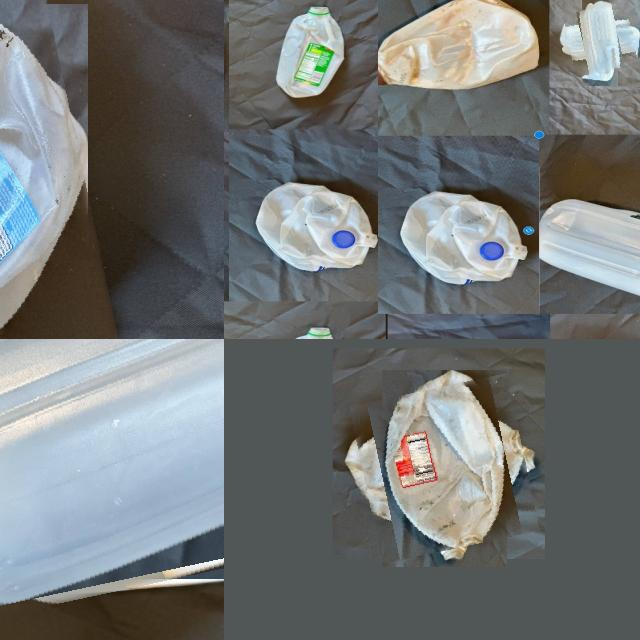milk-jug: (0, 339, 224, 607), (0, 0, 101, 339), (356, 380, 532, 556), (379, 0, 537, 95), (258, 176, 372, 280), (398, 192, 526, 284), (545, 194, 640, 296), (272, 3, 350, 99), (564, 5, 634, 75)
